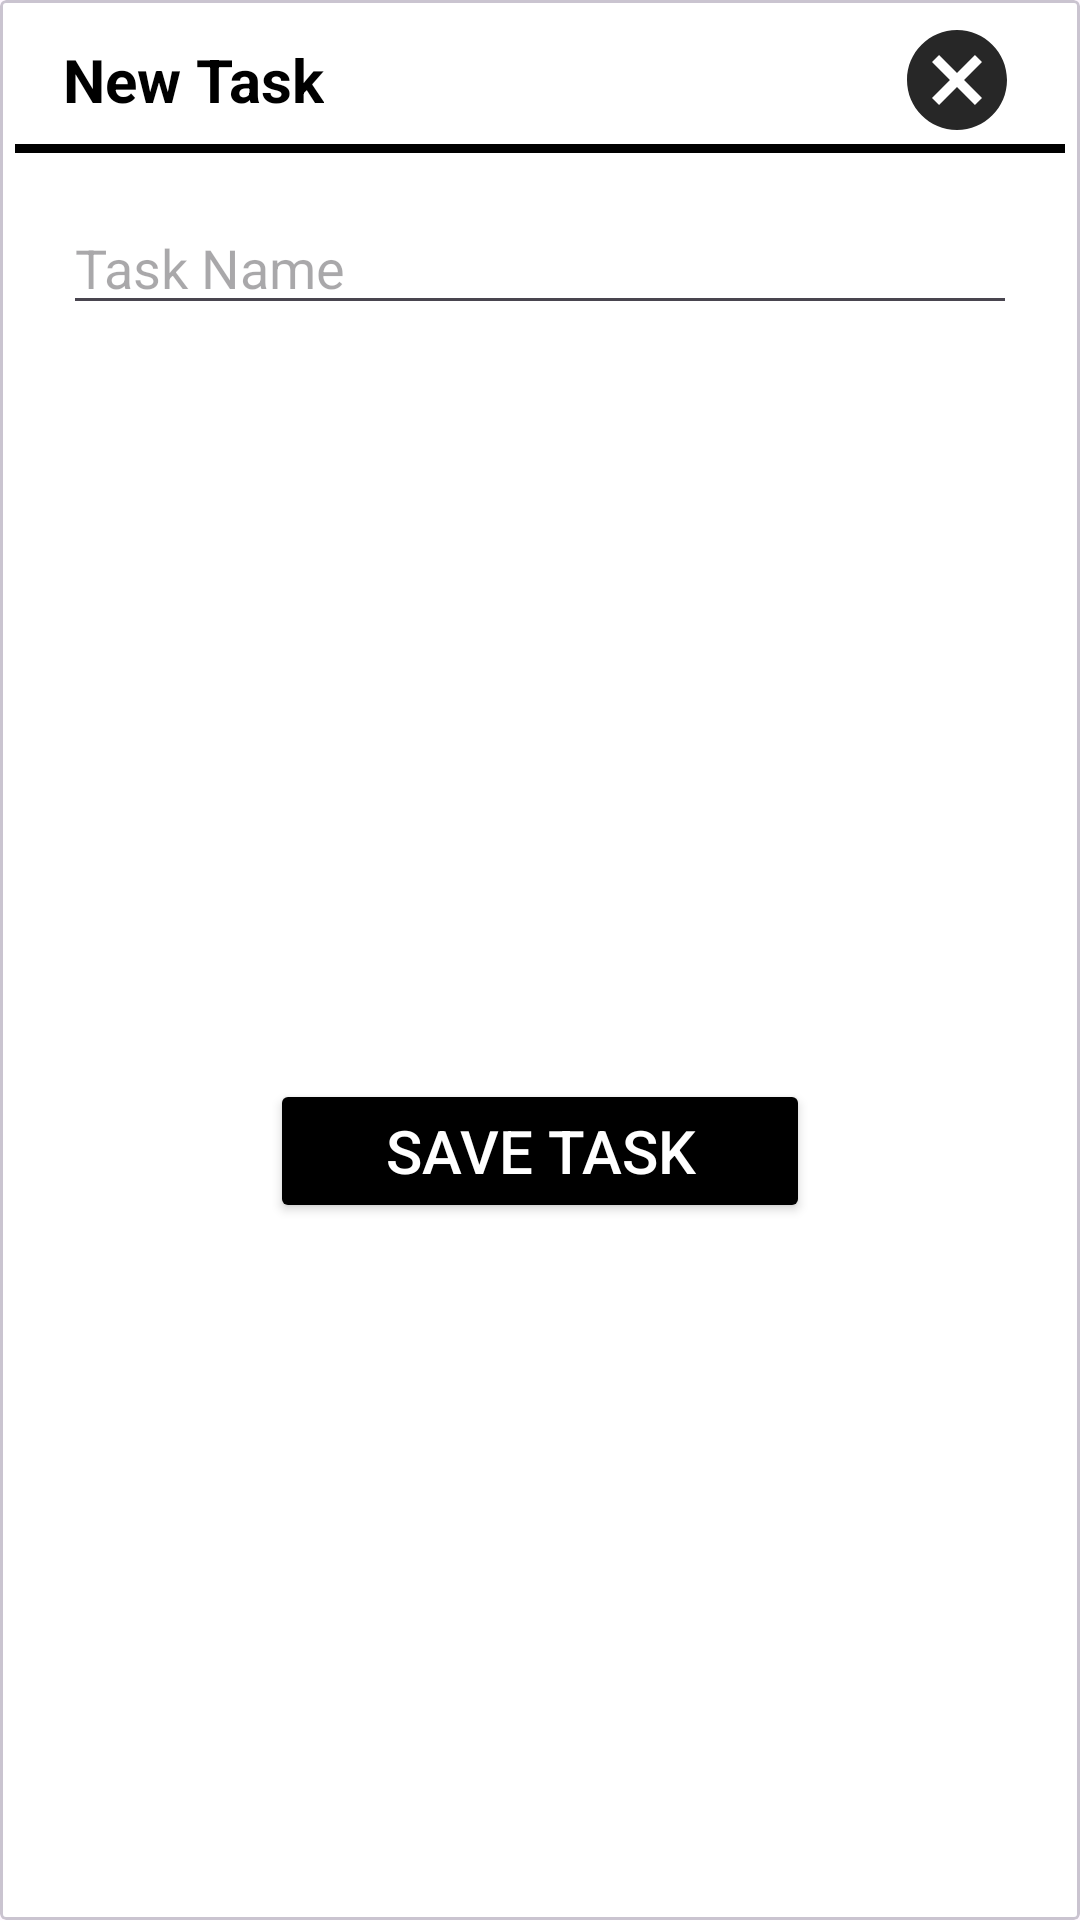

Screen size 1080w x 1920h. Icon name, then its box in pixels as (x1, y1, x2, y2):
cancel: (907, 30, 1007, 130)
